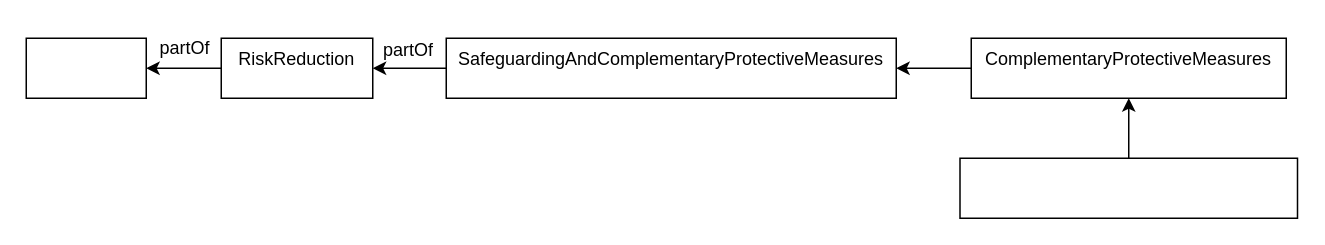
This 1325x245 diagram has some shape labels left out. Each missing label, with the centre of its shape:
ISO12100: pixel 85 67
MeasuresForSafeAccessToMachinery: pixel 1128 187
